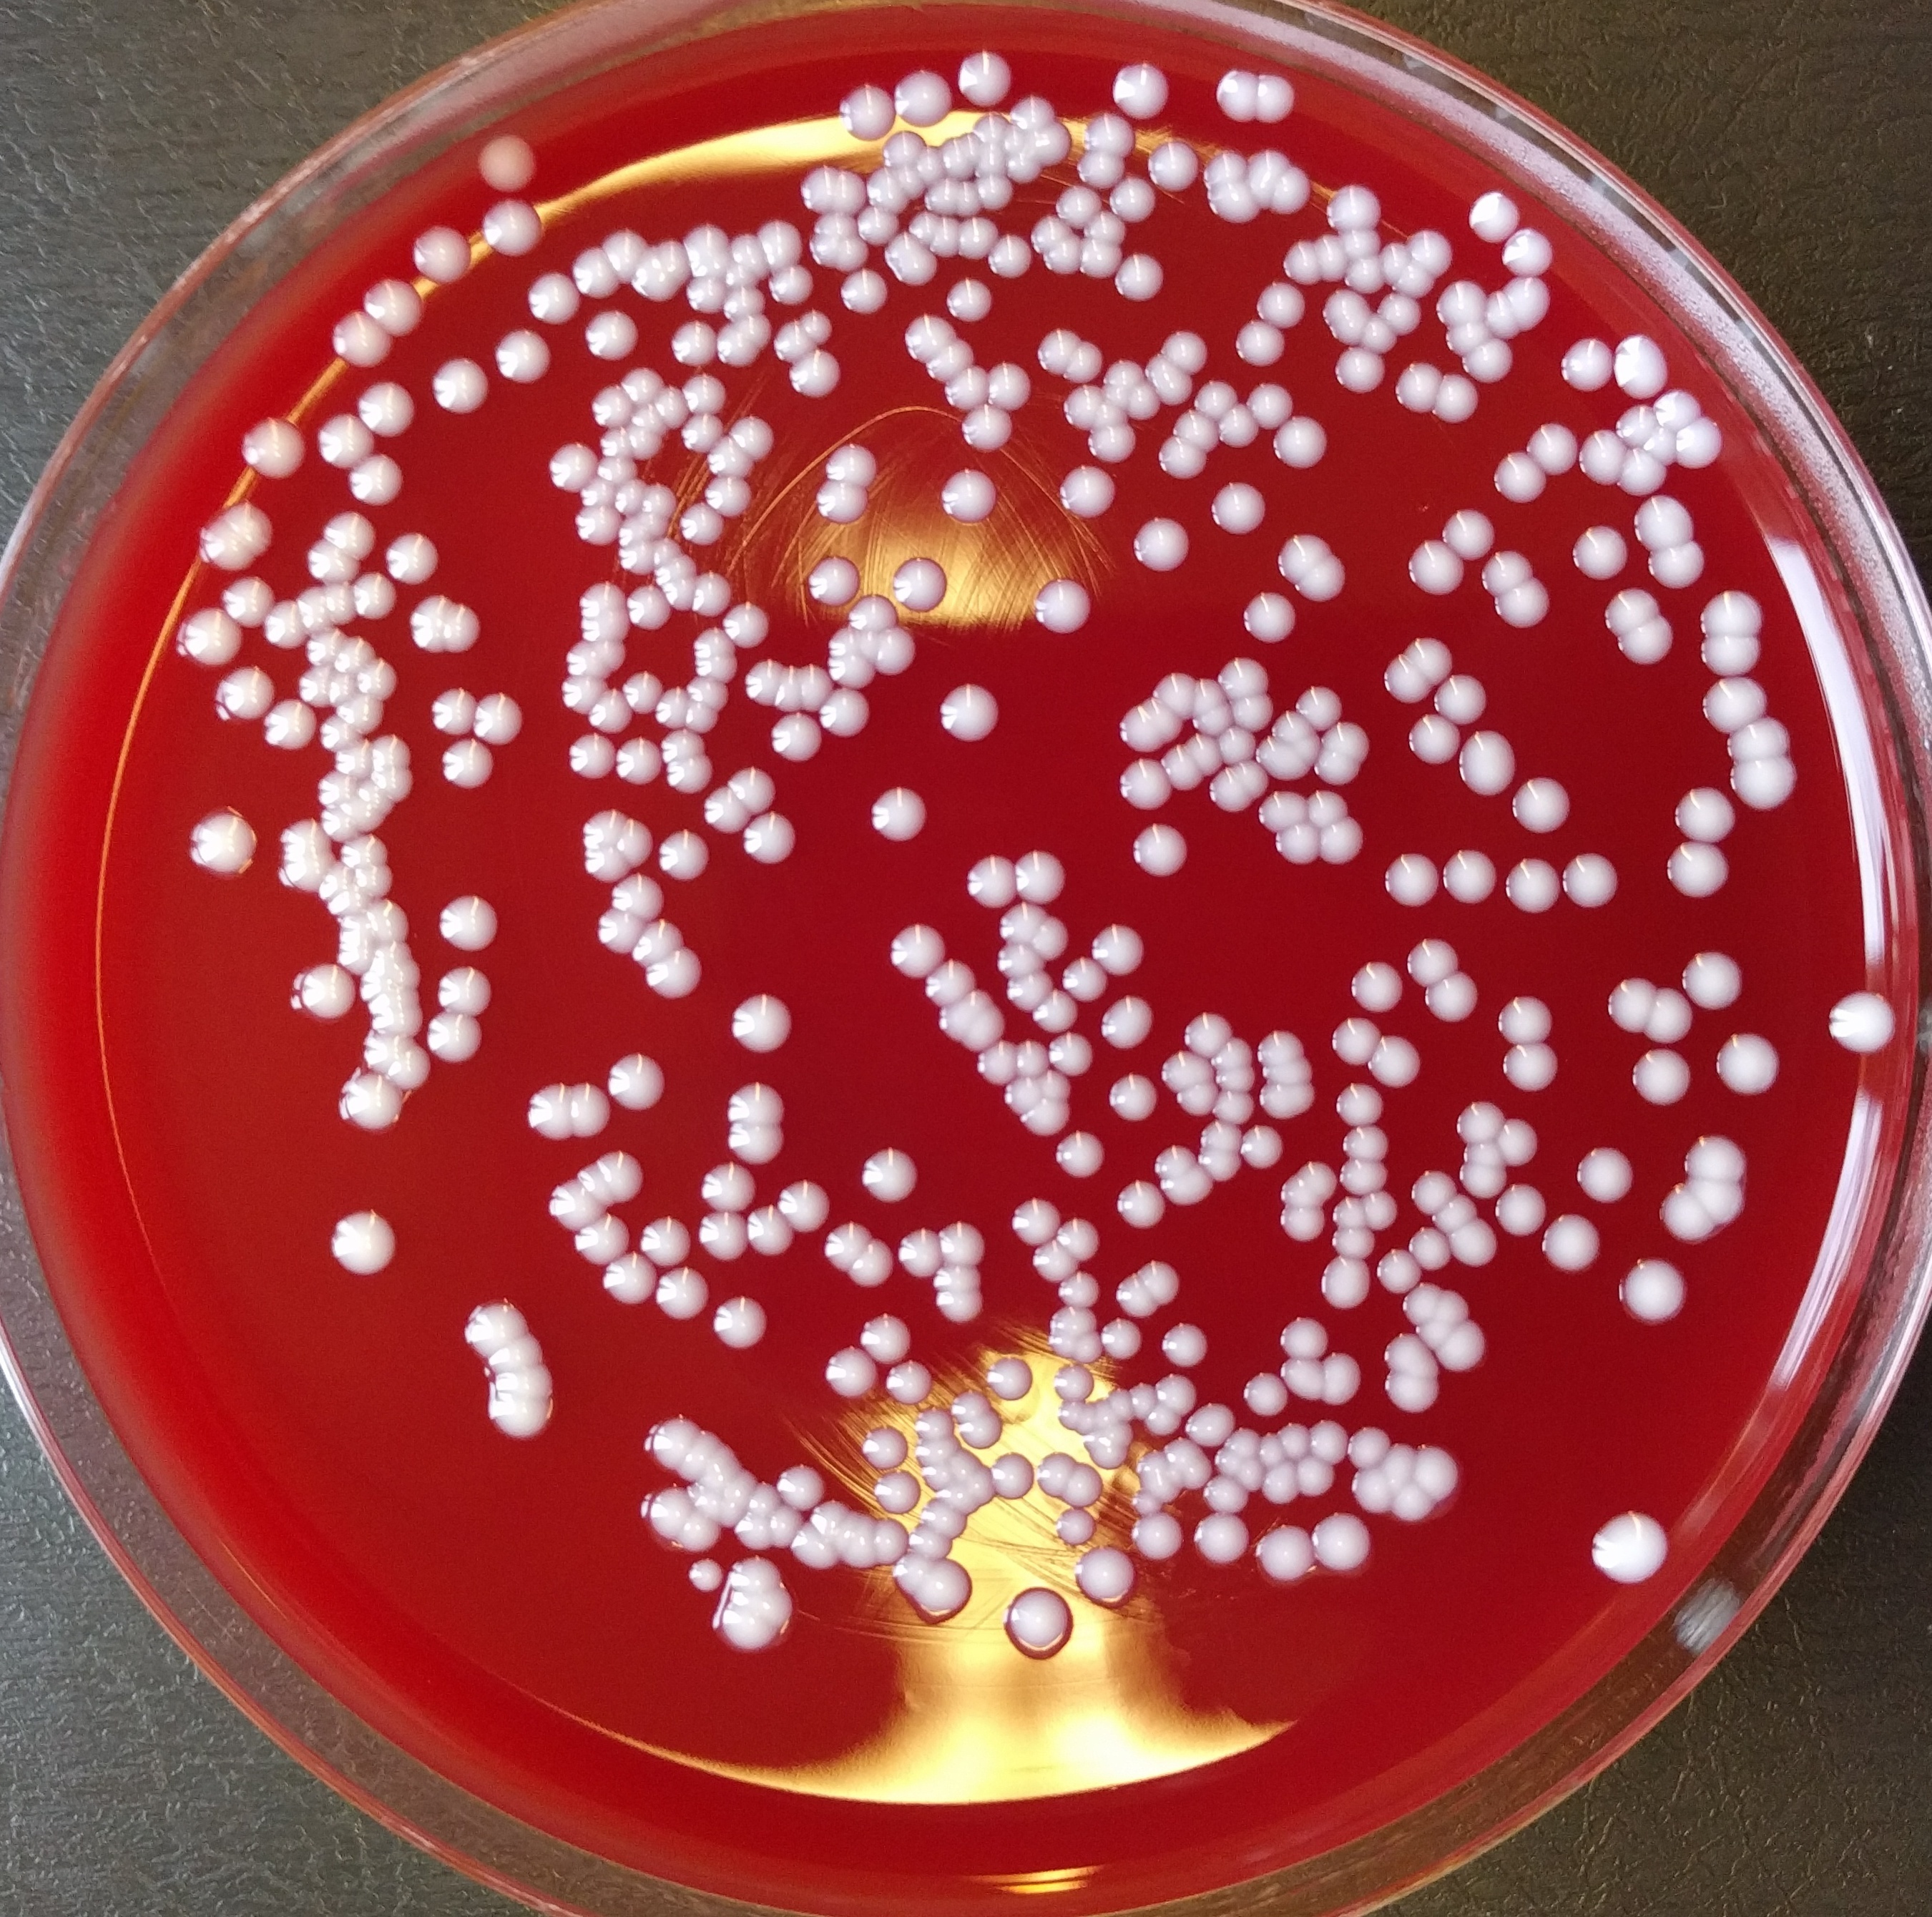sp22: (1586, 1510, 1672, 1589), (193, 504, 275, 574), (1823, 985, 1902, 1057), (184, 804, 256, 883), (1707, 1030, 1785, 1101), (1004, 1587, 1076, 1661), (274, 818, 333, 904), (1662, 836, 1732, 908), (1621, 1257, 1690, 1329), (240, 413, 314, 477), (437, 890, 505, 958), (332, 1206, 397, 1278), (1541, 1210, 1602, 1283), (867, 779, 934, 846), (358, 277, 428, 341), (1669, 785, 1741, 846), (1611, 332, 1671, 406), (411, 219, 476, 286), (1700, 674, 1769, 736), (914, 1557, 974, 1627), (462, 1296, 533, 1353), (1032, 574, 1097, 637), (479, 126, 540, 193), (1076, 1547, 1137, 1613), (493, 327, 553, 395), (337, 1071, 405, 1131), (1458, 729, 1518, 797), (1658, 1176, 1718, 1245), (218, 660, 275, 730), (1563, 850, 1621, 920), (1725, 755, 1797, 811), (1056, 460, 1120, 523), (1569, 520, 1632, 583), (476, 1394, 560, 1441), (291, 962, 356, 1023), (179, 607, 247, 665), (483, 197, 542, 262), (433, 356, 495, 418), (732, 994, 793, 1055), (1681, 948, 1742, 1009), (332, 309, 395, 369), (939, 463, 998, 527), (893, 65, 953, 128), (1630, 1046, 1693, 1106), (1618, 614, 1683, 672), (1506, 855, 1563, 920), (1109, 692, 1162, 762), (1490, 444, 1549, 506), (1632, 495, 1695, 553), (1258, 1520, 1316, 1583), (1421, 969, 1486, 1025), (1316, 1508, 1370, 1575), (1678, 1178, 1753, 1225), (1207, 477, 1267, 537), (1130, 823, 1191, 881), (1383, 851, 1441, 913), (860, 1145, 921, 1203), (358, 953, 430, 1002), (1721, 716, 1793, 765), (528, 270, 583, 335), (837, 81, 895, 140), (1407, 539, 1467, 597), (1695, 588, 1765, 637), (1511, 778, 1572, 834), (1246, 146, 1292, 219), (358, 377, 416, 435), (1314, 1255, 1372, 1313), (893, 555, 949, 614), (1114, 61, 1174, 118), (609, 1052, 665, 1111), (656, 1266, 712, 1325), (891, 556, 953, 611), (542, 1178, 604, 1232), (633, 235, 679, 307), (1493, 994, 1560, 1043), (318, 414, 376, 470), (261, 693, 318, 751), (941, 683, 997, 741), (1146, 140, 1204, 197), (1130, 514, 1188, 571), (1120, 755, 1176, 813), (1444, 850, 1500, 908), (890, 923, 946, 981), (1014, 848, 1072, 904), (1193, 1511, 1251, 1568), (1093, 918, 1149, 976), (1576, 1146, 1634, 1203), (1681, 1134, 1750, 1181), (346, 453, 407, 506), (1525, 421, 1578, 483), (779, 1176, 832, 1238), (642, 950, 705, 1001), (1272, 413, 1328, 469), (1241, 590, 1297, 646), (642, 1415, 698, 1471), (823, 1345, 879, 1401), (1493, 1181, 1549, 1238), (1579, 427, 1634, 485), (1098, 995, 1156, 1050), (1141, 348, 1193, 407), (1502, 270, 1553, 332), (1562, 337, 1613, 398), (1500, 1039, 1562, 1090), (384, 528, 440, 583), (430, 1011, 484, 1067), (1334, 341, 1388, 397), (1439, 507, 1495, 562), (658, 829, 714, 883), (712, 1297, 769, 1352), (962, 47, 1014, 105), (1277, 528, 1330, 586), (223, 572, 274, 632), (435, 966, 495, 1016), (1472, 548, 1532, 599), (579, 581, 630, 641), (607, 869, 667, 920), (716, 1606, 779, 1654), (323, 509, 377, 564), (1109, 249, 1165, 302), (1469, 190, 1521, 246), (569, 730, 619, 788), (1381, 1329, 1439, 1380), (1351, 957, 1402, 1015), (1370, 1032, 1421, 1090), (1493, 578, 1553, 627), (628, 920, 688, 969), (642, 1485, 691, 1545), (1325, 184, 1386, 232), (1200, 183, 1263, 228), (1607, 976, 1653, 1039), (584, 309, 637, 363), (805, 555, 860, 607), (1502, 225, 1555, 279), (744, 813, 798, 865), (574, 1215, 628, 1267), (602, 1253, 656, 1306), (1406, 1225, 1458, 1280), (1323, 288, 1374, 344), (544, 442, 600, 493), (748, 1203, 798, 1259), (1442, 1320, 1493, 1376), (921, 960, 977, 1011), (1697, 634, 1762, 678), (411, 592, 447, 669), (1428, 279, 1486, 328), (1270, 707, 1320, 765), (728, 1076, 786, 1125), (1406, 937, 1463, 987), (1330, 1080, 1388, 1129), (1602, 588, 1662, 635), (1128, 1513, 1188, 1561), (1413, 1441, 1460, 1501), (1646, 542, 1707, 588), (600, 1148, 646, 1210), (444, 737, 497, 790), (333, 909, 377, 973), (769, 713, 821, 765), (1407, 713, 1460, 765), (1235, 316, 1290, 367), (1432, 370, 1483, 425), (1616, 444, 1667, 499), (640, 1215, 691, 1269), (1116, 1178, 1170, 1229), (969, 855, 1018, 911), (700, 1210, 748, 1267), (570, 1080, 612, 1145), (530, 1081, 572, 1146), (483, 1332, 547, 1375), (786, 353, 846, 398), (616, 732, 662, 792), (1277, 1353, 1323, 1413), (481, 1361, 555, 1397), (1649, 983, 1693, 1045), (1297, 553, 1348, 606), (474, 692, 523, 746), (890, 232, 939, 286), (1674, 414, 1723, 469), (595, 906, 644, 960), (860, 1315, 914, 1364), (1330, 1016, 1385, 1066), (958, 406, 1014, 453), (1497, 1111, 1542, 1169), (758, 212, 802, 272), (1163, 741, 1207, 801), (1320, 1350, 1363, 1410), (818, 688, 870, 737), (925, 339, 977, 388), (1614, 400, 1664, 453), (1255, 281, 1309, 328), (1407, 230, 1462, 277), (1260, 737, 1314, 785), (676, 1427, 723, 1482), (1453, 1101, 1507, 1148), (702, 435, 760, 479), (605, 225, 648, 284), (1216, 68, 1258, 128), (1351, 1462, 1390, 1527), (700, 1159, 751, 1208), (1279, 1311, 1330, 1361), (1434, 674, 1486, 722), (1448, 1218, 1500, 1266), (1295, 681, 1341, 736), (442, 599, 486, 655), (305, 539, 361, 583), (904, 316, 960, 360), (1460, 341, 1516, 384), (1279, 237, 1323, 293), (628, 581, 672, 637), (1397, 358, 1439, 416), (1156, 671, 1195, 734), (898, 1225, 941, 1283), (983, 362, 1032, 411), (1156, 430, 1206, 479), (1013, 1195, 1062, 1245), (841, 267, 888, 318), (1109, 174, 1156, 225), (1169, 407, 1220, 455), (1404, 634, 1455, 681), (1276, 822, 1327, 869), (955, 1406, 1005, 1454), (1111, 1073, 1158, 1124), (1332, 1120, 1392, 1160), (818, 481, 870, 527), (702, 786, 748, 839), (1374, 1250, 1427, 1296), (874, 627, 918, 681), (1181, 1403, 1235, 1447), (726, 1124, 788, 1162), (1272, 163, 1314, 219), (1383, 1375, 1441, 1415), (1258, 1083, 1316, 1124), (841, 593, 904, 630), (942, 363, 990, 413), (1160, 328, 1209, 376), (1246, 379, 1293, 428), (1056, 1131, 1104, 1180), (1048, 1030, 1095, 1080), (704, 474, 755, 520), (988, 230, 1034, 281), (1084, 109, 1135, 154), (728, 765, 779, 811), (921, 1490, 967, 1541), (1030, 1241, 1081, 1287), (1256, 788, 1309, 832), (611, 669, 663, 713), (1256, 70, 1299, 125), (684, 218, 725, 274), (1004, 128, 1044, 184), (363, 1002, 425, 1039), (672, 319, 719, 367), (1383, 653, 1430, 700), (725, 416, 774, 462), (944, 277, 993, 323), (1316, 820, 1365, 865), (723, 600, 772, 646), (825, 1222, 870, 1271), (697, 1445, 746, 1490), (1160, 1322, 1209, 1368), (1060, 383, 1104, 434), (1220, 655, 1270, 699), (1100, 1313, 1144, 1364), (1307, 1420, 1351, 1471), (570, 248, 612, 300), (991, 1450, 1034, 1503), (1114, 1269, 1156, 1322), (1148, 693, 1184, 753), (265, 599, 305, 653), (826, 444, 881, 485), (1084, 423, 1139, 463), (388, 1045, 433, 1092), (1056, 186, 1102, 233), (939, 1218, 984, 1266), (777, 1462, 825, 1508), (1242, 1373, 1290, 1418), (361, 899, 411, 943), (865, 167, 909, 216), (563, 639, 612, 683), (1137, 1257, 1181, 1306), (1181, 1009, 1230, 1053), (1244, 1125, 1293, 1169), (433, 685, 476, 736), (333, 692, 384, 734), (1032, 119, 1074, 170), (872, 1473, 923, 1515), (1148, 1373, 1199, 1415), (356, 1032, 414, 1069), (746, 655, 783, 713), (369, 765, 421, 806), (667, 757, 719, 797), (1141, 1450, 1181, 1503), (356, 569, 395, 623), (616, 514, 676, 549), (884, 1359, 930, 1404), (1413, 1169, 1458, 1215), (588, 383, 635, 427), (588, 690, 635, 734), (1063, 955, 1107, 1002), (1374, 291, 1423, 334), (555, 678, 611, 714), (930, 1292, 986, 1329), (798, 1524, 841, 1573), (770, 1499, 807, 1555), (984, 1357, 1034, 1399), (963, 1006, 1005, 1055), (328, 635, 379, 676), (1653, 390, 1704, 430), (1320, 720, 1370, 760), (1163, 1166, 1214, 1206), (1037, 327, 1072, 384), (1486, 290, 1525, 342), (1258, 1023, 1311, 1062), (1355, 309, 1399, 355), (576, 502, 619, 548), (862, 1422, 905, 1468), (1295, 1454, 1339, 1499), (656, 226, 688, 290), (830, 651, 879, 692), (1055, 341, 1104, 381), (576, 1160, 616, 1210), (762, 267, 818, 302), (1037, 1448, 1076, 1499), (798, 660, 835, 713), (874, 1515, 911, 1568), (726, 1555, 788, 1587), (977, 1036, 1014, 1088), (1209, 772, 1253, 816), (895, 1554, 939, 1597), (1395, 1485, 1439, 1529), (1056, 1217, 1100, 1260), (716, 325, 758, 370), (683, 372, 728, 414), (1063, 1462, 1106, 1508), (1399, 1283, 1444, 1325), (354, 660, 402, 700), (774, 319, 814, 367), (1220, 400, 1260, 448), (581, 844, 628, 885), (853, 1241, 893, 1289), (1005, 971, 1055, 1009), (1193, 379, 1242, 418), (1313, 232, 1349, 283), (1458, 1162, 1509, 1199), (1279, 1171, 1330, 1208), (1016, 1104, 1072, 1138), (1158, 1055, 1214, 1088), (1335, 1159, 1392, 1192), (1000, 899, 1042, 943), (353, 862, 397, 904), (800, 162, 835, 214), (1079, 237, 1121, 281), (679, 1511, 721, 1555), (751, 1589, 795, 1631), (1346, 1422, 1388, 1466), (619, 365, 665, 406), (681, 413, 726, 453), (960, 216, 1000, 262), (344, 797, 391, 836), (1077, 151, 1125, 190), (1427, 1194, 1474, 1232), (1279, 1206, 1327, 1245), (662, 572, 697, 623), (1037, 990, 1079, 1032), (1206, 1476, 1248, 1519), (858, 207, 902, 248), (581, 809, 625, 850), (1055, 1508, 1098, 1548), (849, 1508, 874, 1580), (1030, 216, 1076, 255), (1642, 427, 1681, 472), (1232, 693, 1277, 732), (1184, 730, 1223, 776), (695, 571, 733, 616), (998, 1078, 1044, 1116), (1381, 1431, 1414, 1483), (1263, 1457, 1297, 1510), (719, 284, 769, 319), (1393, 260, 1435, 300), (965, 1410, 1005, 1452), (1297, 1159, 1339, 1199), (730, 230, 769, 274), (1042, 233, 1081, 277), (1230, 760, 1274, 799), (632, 400, 676, 439), (1363, 1190, 1402, 1234), (291, 590, 328, 635), (737, 1510, 774, 1555), (928, 1259, 984, 1289), (1011, 95, 1058, 130), (619, 820, 653, 869), (1435, 1287, 1476, 1327), (369, 732, 411, 771), (683, 502, 721, 544), (1439, 328, 1497, 356), (935, 1001, 974, 1043), (658, 730, 712, 760), (884, 130, 928, 167), (1127, 376, 1163, 420), (1088, 398, 1134, 434), (690, 676, 735, 711), (905, 1520, 951, 1555), (1195, 1148, 1241, 1183), (653, 681, 686, 729), (1084, 1436, 1132, 1469), (340, 837, 397, 865), (837, 163, 867, 216), (1191, 700, 1232, 739), (688, 277, 725, 319), (1056, 1269, 1098, 1306), (1213, 725, 1256, 760), (655, 553, 698, 588), (1409, 1322, 1455, 1355), (814, 204, 860, 237), (1328, 1231, 1379, 1260), (1032, 916, 1069, 957), (295, 672, 335, 709), (360, 778, 397, 818), (1084, 209, 1127, 244), (1316, 753, 1360, 786), (311, 772, 361, 801), (777, 657, 802, 714), (1309, 788, 1348, 825), (686, 1555, 723, 1594), (1055, 1364, 1093, 1401), (305, 630, 346, 665), (1381, 241, 1416, 281), (325, 581, 354, 628), (1204, 151, 1246, 184), (809, 1501, 851, 1534), (930, 218, 962, 262), (1193, 679, 1225, 723), (937, 1487, 981, 1519), (1197, 1120, 1241, 1152), (998, 943, 1048, 971), (921, 181, 958, 218), (591, 456, 642, 483), (914, 140, 942, 188), (697, 653, 739, 685), (1149, 1145, 1193, 1174), (321, 714, 358, 750), (372, 937, 425, 962), (1348, 256, 1383, 293), (628, 428, 665, 463), (1214, 1036, 1251, 1071), (1460, 1145, 1509, 1171), (1332, 1197, 1369, 1232), (905, 214, 944, 248), (953, 1383, 986, 1422), (1016, 1034, 1048, 1074), (330, 746, 372, 776), (1213, 1092, 1255, 1122), (944, 135, 970, 183), (914, 1441, 962, 1468), (1262, 1059, 1316, 1081), (693, 627, 737, 655), (319, 804, 356, 837), (974, 111, 1011, 144), (616, 541, 655, 572), (655, 532, 686, 571), (1277, 1418, 1309, 1457), (1148, 1403, 1179, 1441), (1177, 1081, 1216, 1113), (735, 319, 776, 349), (958, 121, 984, 167), (979, 177, 1014, 211), (686, 702, 719, 737), (949, 1452, 984, 1485), (807, 235, 841, 270), (642, 483, 674, 520), (744, 1482, 776, 1519), (918, 1406, 955, 1438), (1339, 228, 1383, 255), (576, 476, 614, 506), (893, 165, 927, 198), (328, 672, 360, 707), (841, 232, 867, 274), (1100, 376, 1130, 413), (612, 477, 642, 514), (856, 627, 883, 667), (802, 309, 834, 342), (1184, 1457, 1213, 1494), (1044, 1071, 1076, 1102), (595, 427, 628, 456), (1225, 1424, 1258, 1454), (1102, 358, 1142, 383), (1237, 1455, 1262, 1496), (919, 1468, 955, 1496), (1044, 1303, 1072, 1338), (1262, 1427, 1288, 1464), (1128, 1383, 1156, 1417), (1163, 1438, 1199, 1464), (967, 1462, 990, 1503), (604, 641, 635, 669), (1127, 1489, 1158, 1517), (1216, 1067, 1255, 1090), (728, 1469, 755, 1503), (955, 183, 983, 212), (979, 142, 1005, 174), (1102, 1422, 1135, 1447), (1069, 1306, 1098, 1332), (1048, 1331, 1077, 1357), (832, 625, 856, 653), (1056, 1403, 1084, 1427), (1111, 1387, 1130, 1422), (1079, 1334, 1104, 1361), (1213, 1445, 1235, 1473), (1072, 1403, 1095, 1431), (970, 988, 993, 1015), (730, 1589, 755, 1608)
